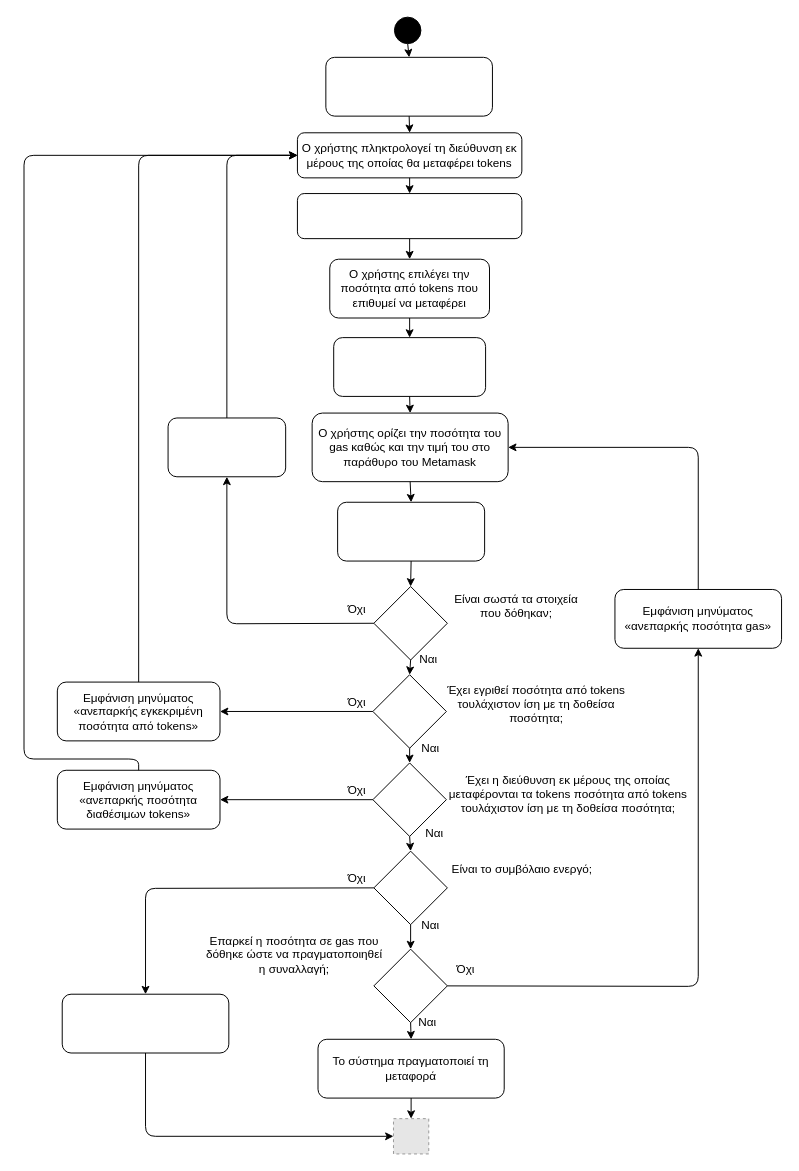
This 799x1171 diagram has some shape labels left out. Grey dashed boxes stand in for pictures. Here are the shapes that lost their labels. From the top down, the box of each, then its label:
(325, 56, 492, 116): Ο χρήστης συνδέει το λογαριασμό του στο Metamask
(296, 193, 522, 239): Ο χρήστης πληκτρολογεί τη διεύθυνση στην οποία θα μεταφέρει tokens
(333, 337, 486, 396): Ο χρήστης επιλέγει «Transfer Tokens»
(167, 417, 286, 477): Εμφάνιση μηνύματος «λανθασμένα στοιχεία»
(337, 501, 485, 561): Ο χρήστης επιβεβαιώνει την αποστολή στο παράθυρο του Metamask
(61, 993, 229, 1053): Εμφάνιση μηνύματος «απενεργοποιημένο συμβόλαιο»
